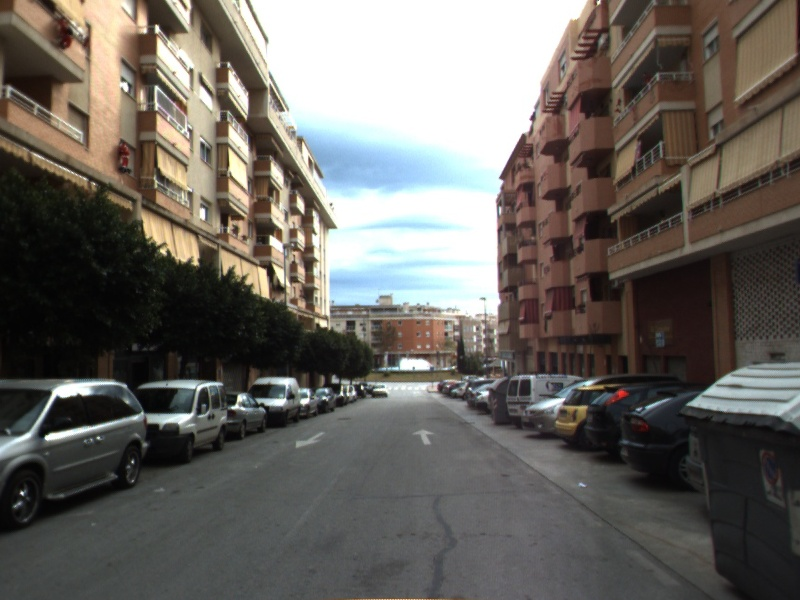STRAIGHT: (411, 427, 437, 446)
